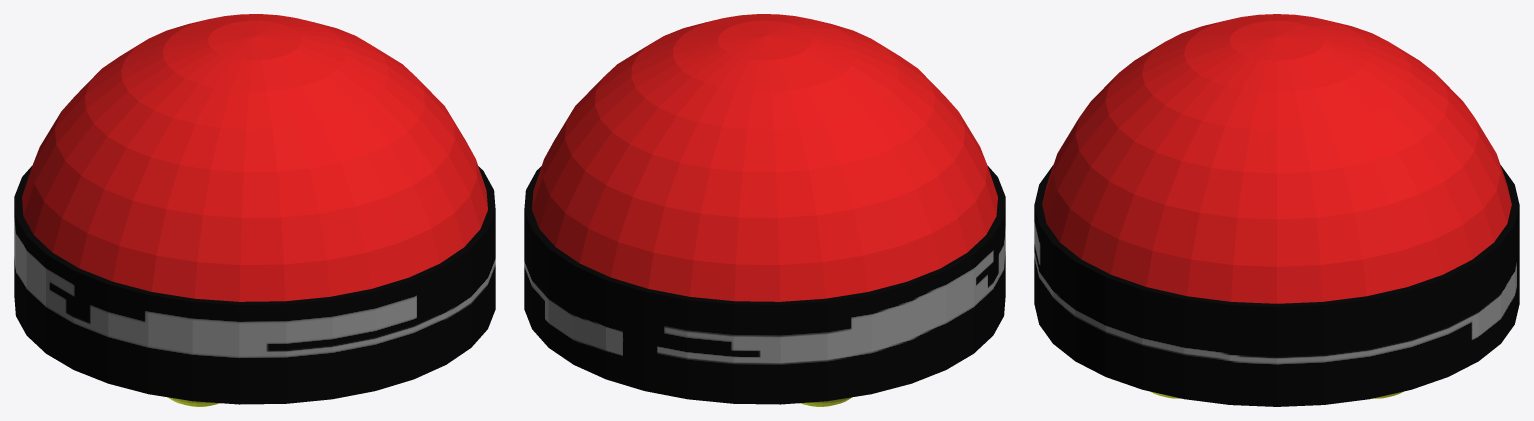
File: Enemy.obj
The picture shows the model from 3 angles, left to right: view 1: azimuth 30°, elevation 25°; view 2: azimuth 150°, elevation 25°; view 3: azimuth 270°, elevation 25°; orthographic projection.
Visible parts, largest first — view 1: 球.006; view 2: 球.006; view 3: 球.006.
Boxes of the visible parts, x1,y1,x2,y2 form: 球.006: [14, 14, 495, 406]; 球.006: [524, 14, 1005, 406]; 球.006: [1034, 14, 1519, 406].
Size of the model in its own units: 8 by 5.56 by 8.
